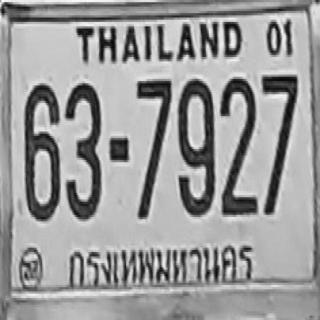N02: (220, 76, 256, 214)
N03: (64, 81, 101, 219)
N06: (24, 82, 60, 220)
N07: (261, 72, 298, 215), (136, 78, 172, 218)
N09: (178, 77, 214, 215)
P04: (65, 241, 261, 296)
